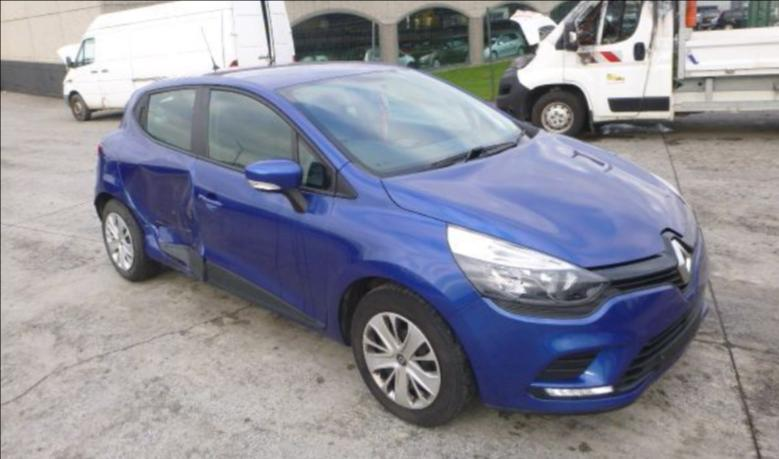Broken part: (158, 242, 205, 277)
Dent: (101, 158, 205, 281)
Paint chip: (151, 220, 164, 226), (172, 210, 175, 214)
